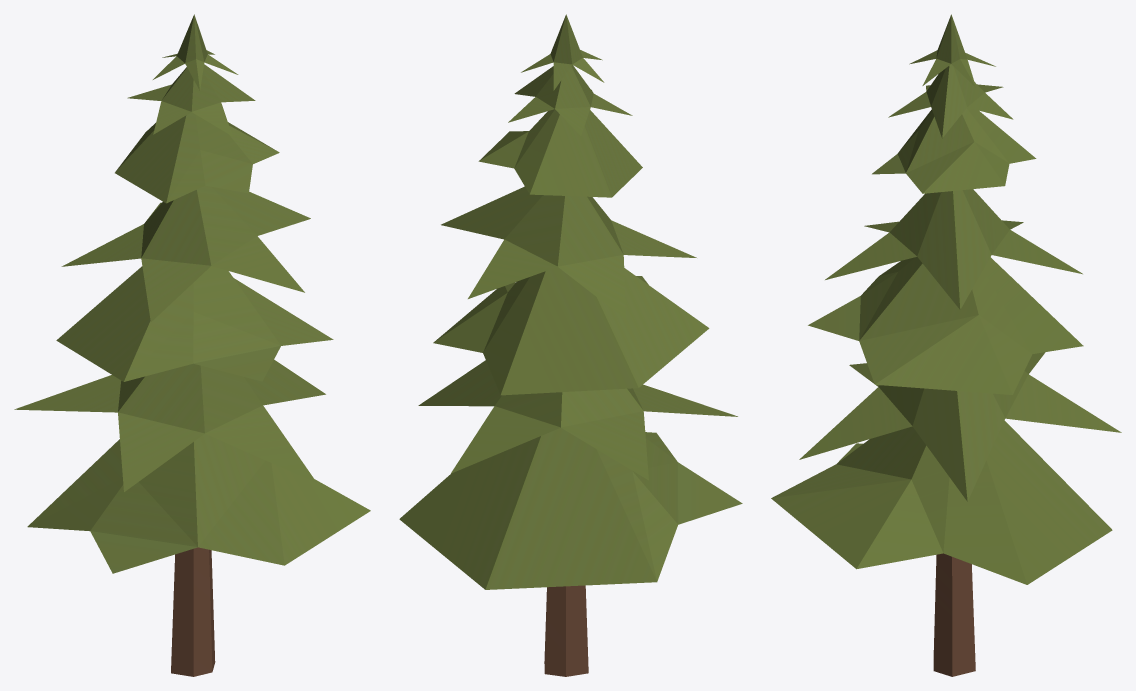
Rendered from Tree_1_LOD1.fbx.
3 renders of one model, left to right at view 1: azimuth 30°, elevation 25°; view 2: azimuth 150°, elevation 25°; view 3: azimuth 270°, elevation 25°, orthographic.
Visible parts, largest first — view 1: polySurface10382; view 2: polySurface10382; view 3: polySurface10382.
Part boxes in pixels (left/top/right/bottom): polySurface10382: left=14, top=14, right=370, bottom=676; polySurface10382: left=399, top=14, right=742, bottom=676; polySurface10382: left=771, top=14, right=1121, bottom=676.
Bounding box in the file's own units: 131 × 302 × 147.
